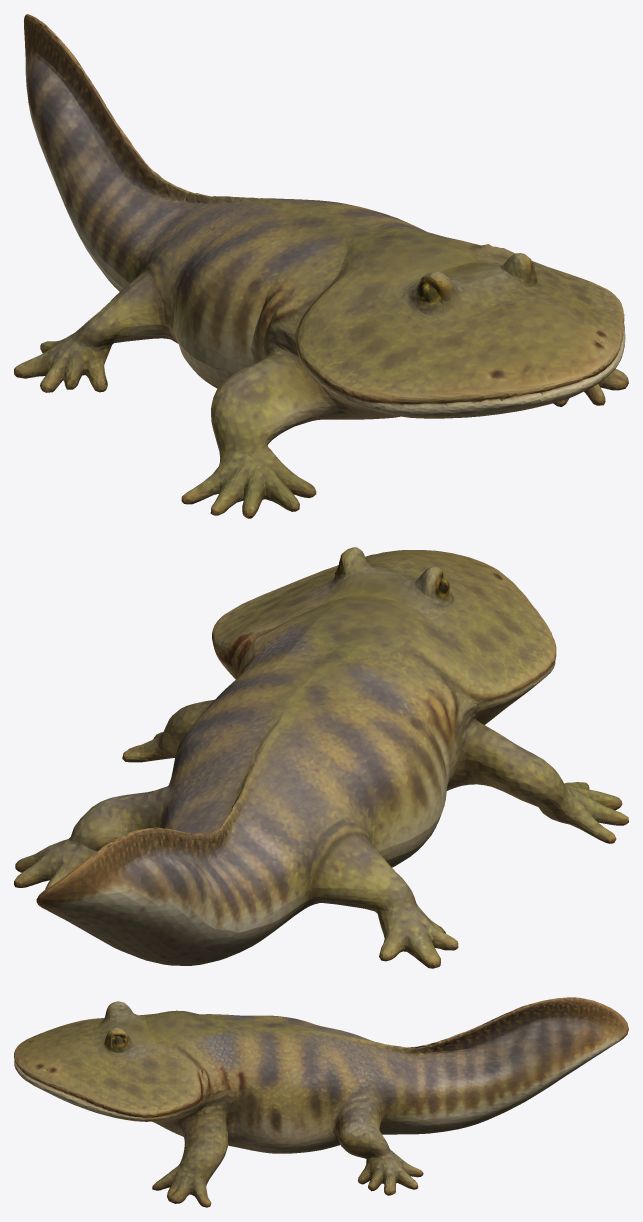
The picture shows the model from 3 angles, top to bottom: view 1: azimuth 30°, elevation 25°; view 2: azimuth 150°, elevation 25°; view 3: azimuth 270°, elevation 25°; orthographic projection. The views are drawn at different scales.
Parts seen in each view (by area): view 1: world; view 2: world; view 3: world.
Part boxes in pixels (x1,y1,x2,y2): world: (14,14,628,518); world: (14,547,628,968); world: (14,997,628,1207).
Size of the model in its own units: 0.5579 by 0.2367 by 1.
Materials: 1 (1 with a texture image).
